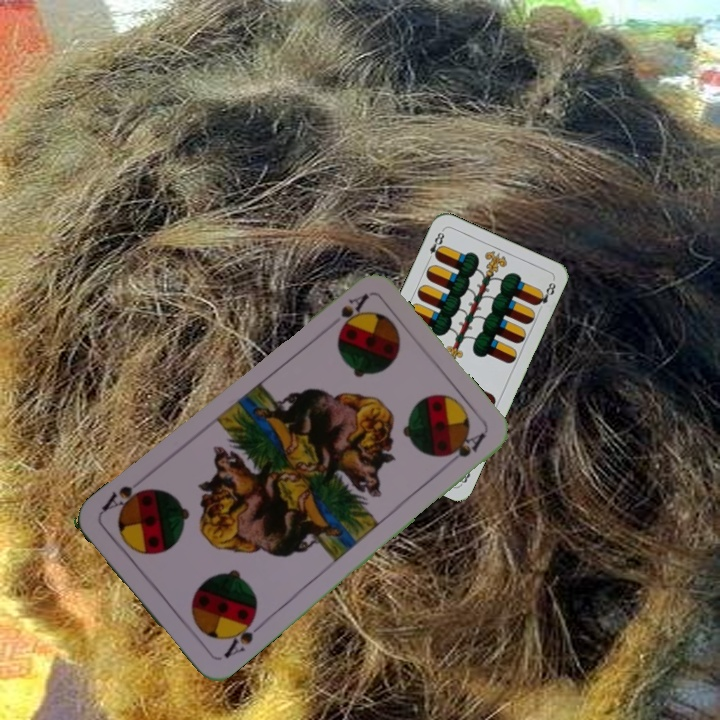E8: (423, 226, 447, 264)
SA: (219, 611, 266, 661), (334, 289, 372, 334)
